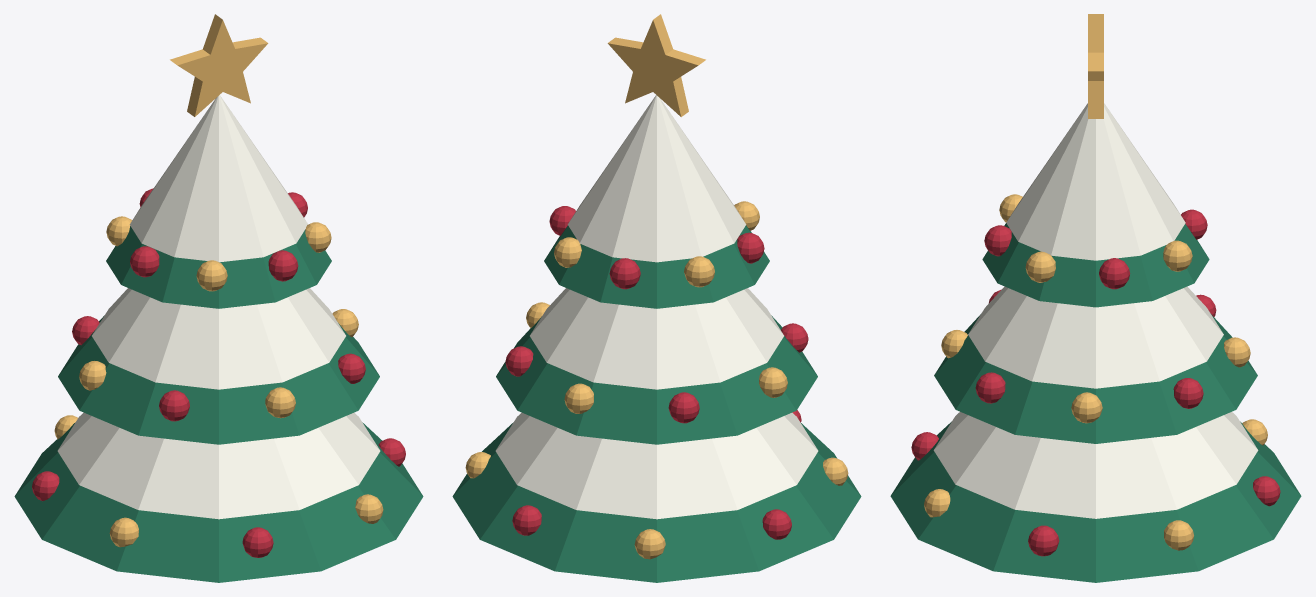
The model's file is christmas-village-star-topped-tree-f0bd90f3.glb.
3 views of the same model, side by side, from view 1: azimuth 30°, elevation 25°; view 2: azimuth 150°, elevation 25°; view 3: azimuth 270°, elevation 25° (orthographic).
Parts seen in each view (by area): view 1: star-topped-tree; view 2: star-topped-tree; view 3: star-topped-tree.
Boxes of the visible parts, x1,y1,x2,y2 form: star-topped-tree: [14, 14, 423, 582]; star-topped-tree: [452, 14, 861, 582]; star-topped-tree: [890, 14, 1301, 582].
Bounding box in the file's own units: 1.7 × 2.5 × 1.7.
